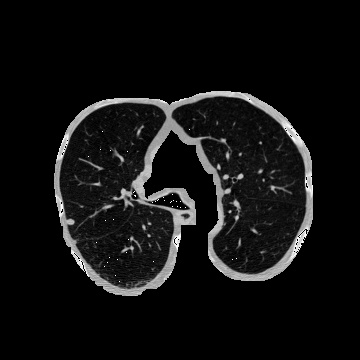PN: (66, 218, 74, 226)
